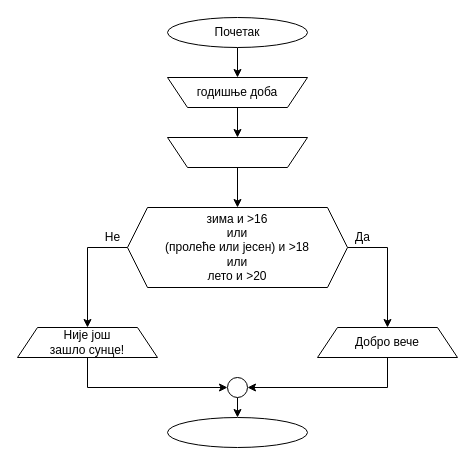
Some shapes in this 475 by 465 pixel diagram are drawn without their labels. The centre of each missing label's shape, as x and y in pixels:
"време" goes at (237,152).
"Крај" goes at (237,432).
